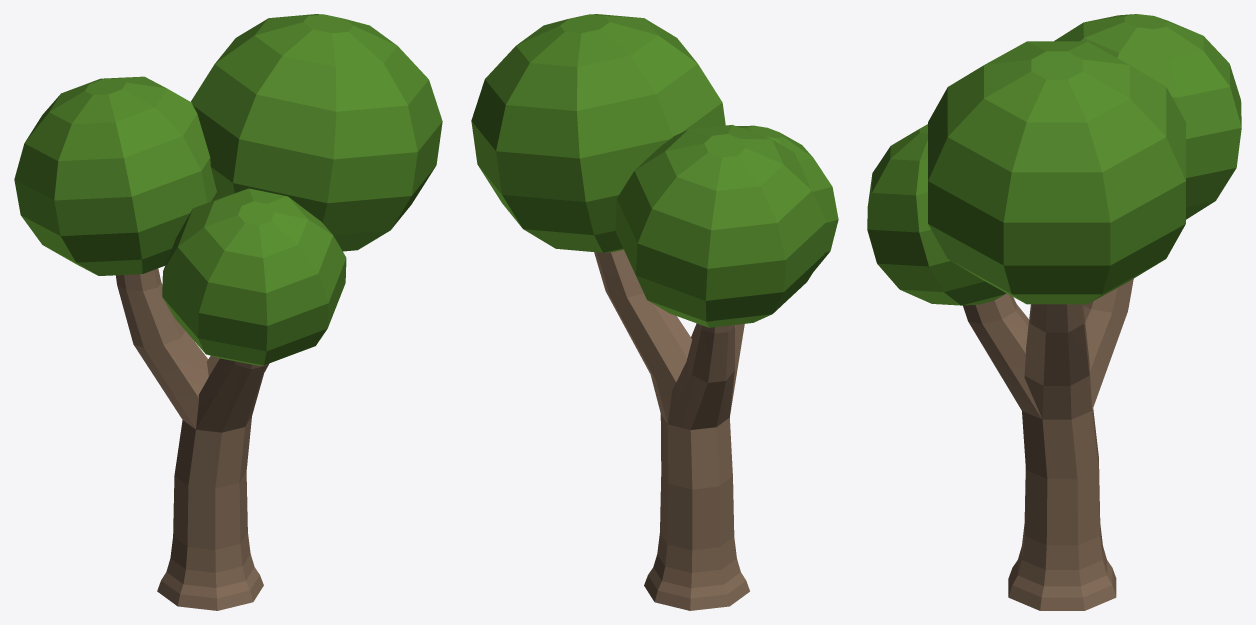
Rendered from Hilly_Prop_Tree_Oak_4.obj.
3 renders of one model, left to right at view 1: azimuth 30°, elevation 25°; view 2: azimuth 150°, elevation 25°; view 3: azimuth 270°, elevation 25°, orthographic. The views are drawn at different scales.
Visible parts, largest first — view 1: object2, object1, object4, object3; view 2: object2, object1, object4, object3; view 3: object2, object4, object1, object3.
Boxes of the visible parts, x1,y1,x2,y2 form: object2: [191, 14, 442, 251]; object1: [14, 76, 216, 275]; object4: [115, 268, 269, 610]; object3: [162, 188, 346, 365]; object2: [471, 14, 725, 252]; object1: [615, 124, 826, 327]; object4: [594, 250, 749, 610]; object3: [736, 125, 838, 270]; object2: [928, 41, 1185, 304]; object4: [963, 279, 1133, 610]; object1: [1054, 14, 1241, 219]; object3: [867, 124, 1006, 305].
Size of the model in its own units: 3.36 by 5 by 2.89.
